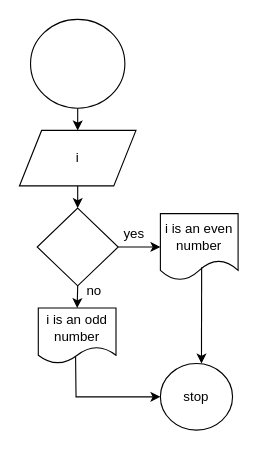
Some shapes in this 258 by 450 pixel diagram are drawn without their labels. The centre of each missing label's shape, as x and y in pixels:
"i mod 2 =0" belongs at (x=77, y=246).
"start" belongs at (x=77, y=63).
